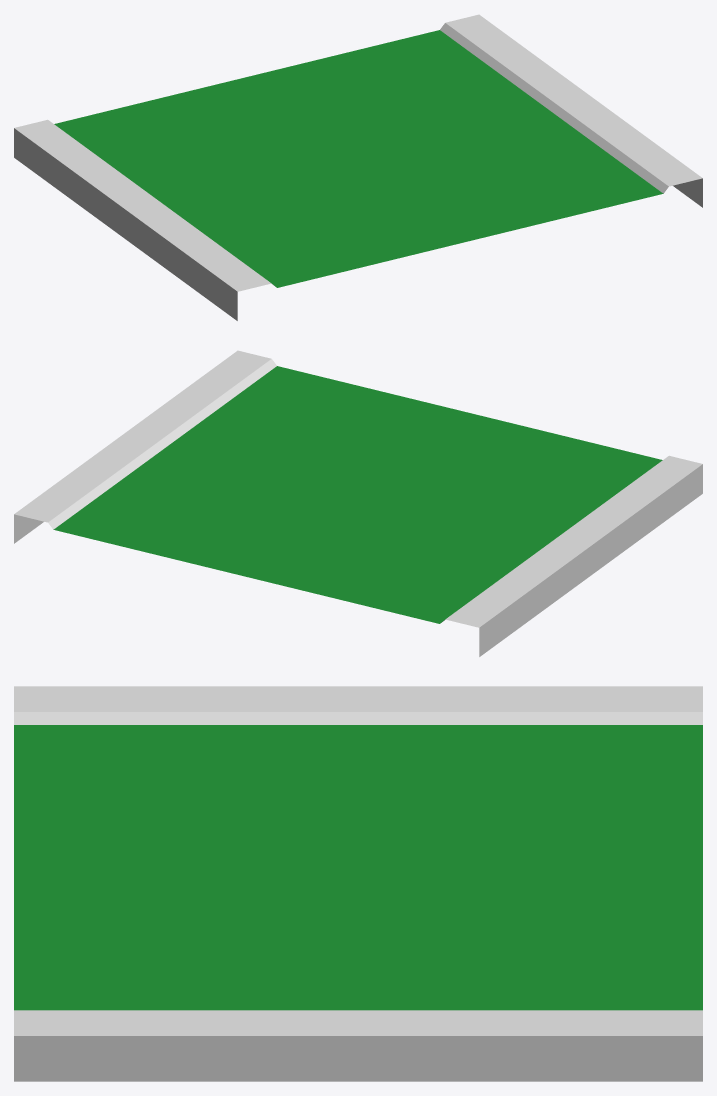
Rendered from GrassBed_1_A_2_.fbx.
3 renders of one model, top to bottom at view 1: azimuth 30°, elevation 25°; view 2: azimuth 150°, elevation 25°; view 3: azimuth 270°, elevation 25°, orthographic. The views are drawn at different scales.
Parts seen in each view (by area): view 1: GrassBed_1_A_2; view 2: GrassBed_1_A_2; view 3: GrassBed_1_A_2.
Part boxes in pixels (bbox=[...]): GrassBed_1_A_2: bbox=[14, 14, 702, 320]; GrassBed_1_A_2: bbox=[14, 350, 702, 656]; GrassBed_1_A_2: bbox=[14, 686, 702, 1081].
Bounding box in the file's own units: 120 × 7.32 × 100.
